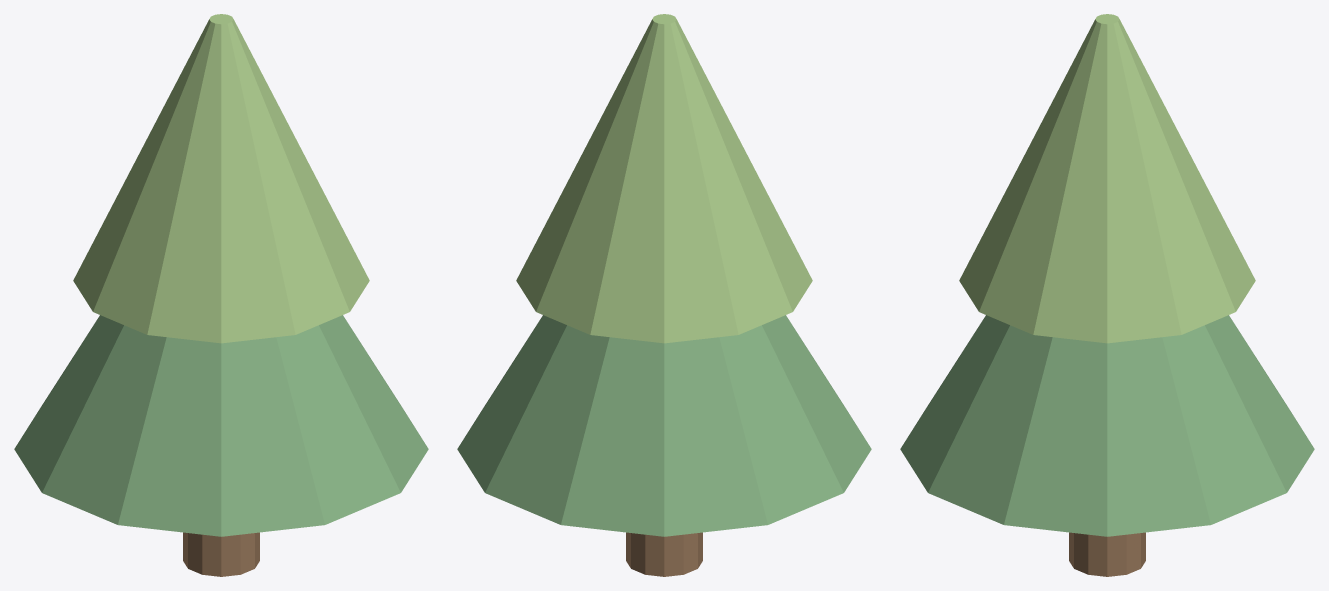
The model's file is env-tree.glb.
3 views of the same model, side by side, from view 1: azimuth 30°, elevation 25°; view 2: azimuth 150°, elevation 25°; view 3: azimuth 270°, elevation 25° (orthographic).
Parts seen in each view (by area): view 1: tree lower branches, tree upper branches, tree trunk; view 2: tree lower branches, tree upper branches, tree trunk; view 3: tree lower branches, tree upper branches, tree trunk.
Part boxes in pixels (x1=…): tree lower branches: x1=14, y1=315, x2=428, y2=536; tree upper branches: x1=73, y1=14, x2=369, y2=343; tree trunk: x1=183, y1=532, x2=259, y2=576; tree lower branches: x1=457, y1=315, x2=871, y2=536; tree upper branches: x1=516, y1=14, x2=812, y2=343; tree trunk: x1=626, y1=532, x2=702, y2=576; tree lower branches: x1=900, y1=315, x2=1314, y2=536; tree upper branches: x1=959, y1=14, x2=1255, y2=343; tree trunk: x1=1069, y1=532, x2=1145, y2=576.
Size of the model in its own units: 2.04 by 2.94 by 2.04.
